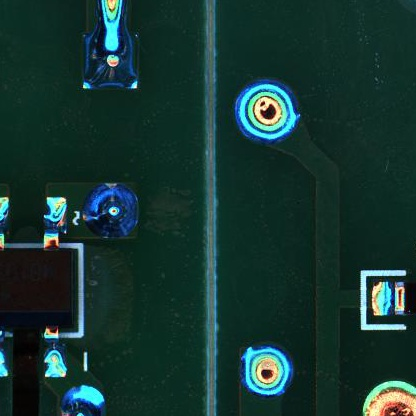spot: (232, 81, 301, 144), (81, 31, 139, 91), (83, 182, 139, 239), (239, 346, 293, 398)
